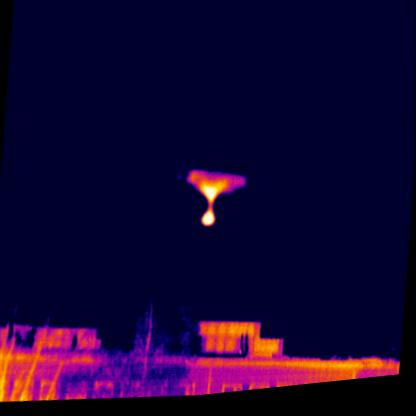drone: (173, 159, 247, 236)
